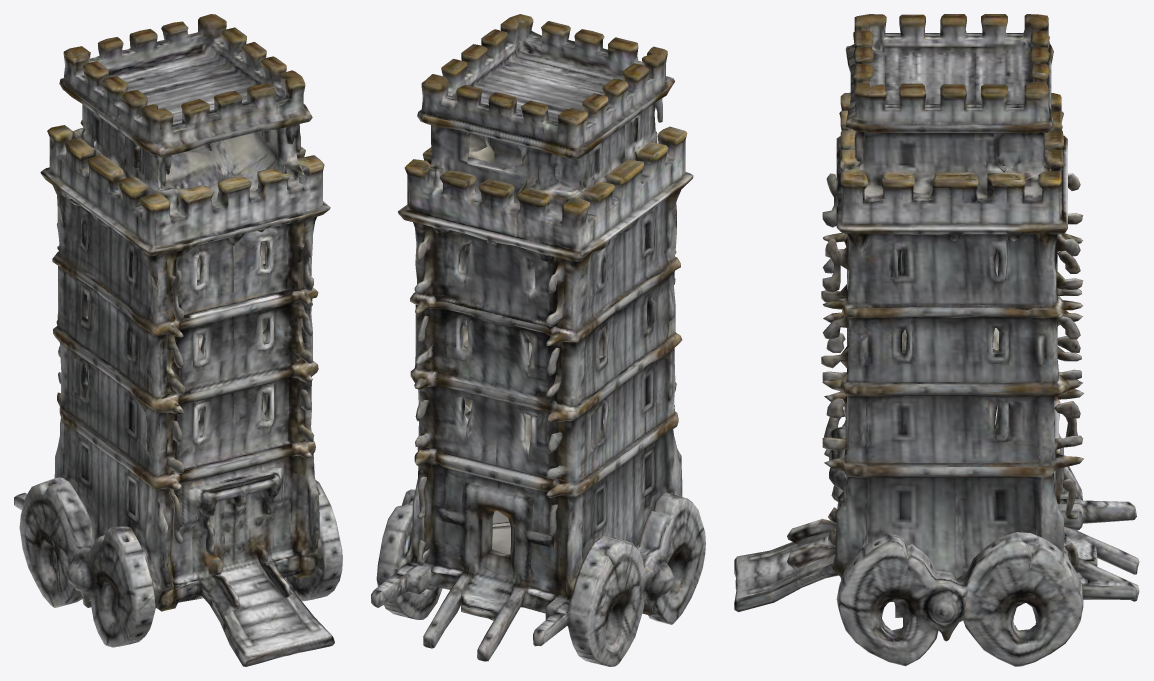
Rendered from Guelphs_Siegetower.glb.
3 renders of one model, left to right at view 1: azimuth 30°, elevation 25°; view 2: azimuth 150°, elevation 25°; view 3: azimuth 270°, elevation 25°, orthographic. The views are drawn at different scales.
Size of the model in its own units: 0.8963 by 1.91 by 1.24.
1 material, 1 textured.
